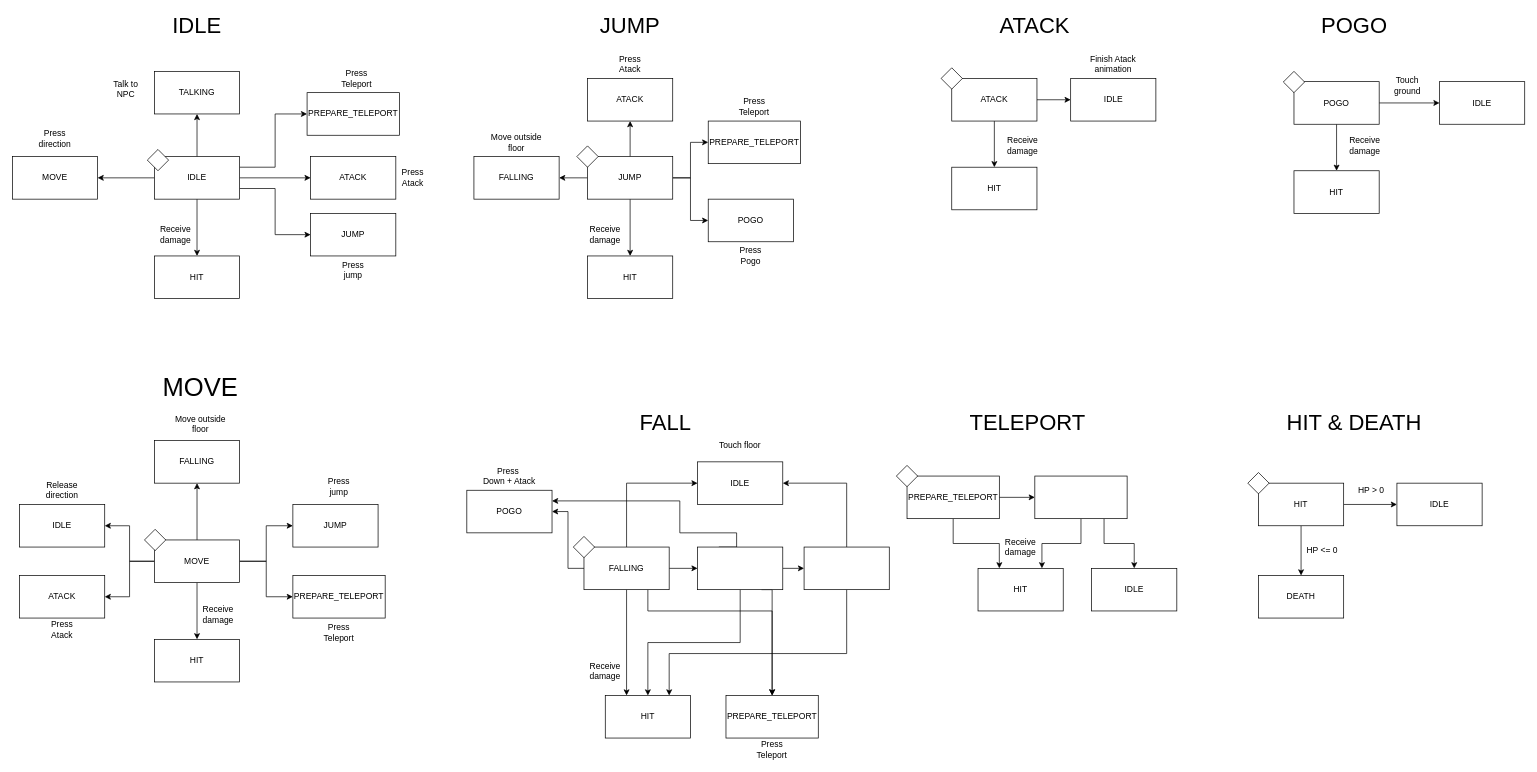
The diagram is 1537 pixels wide and 772 high, and some of its shapes have lost their labels. The centre of each missing label's shape, as x and y in pixels:
RELEASE_TELEPORT: the point at 1080,497
STOMP: the point at 846,568
SUPER_FALLING: the point at 740,568
